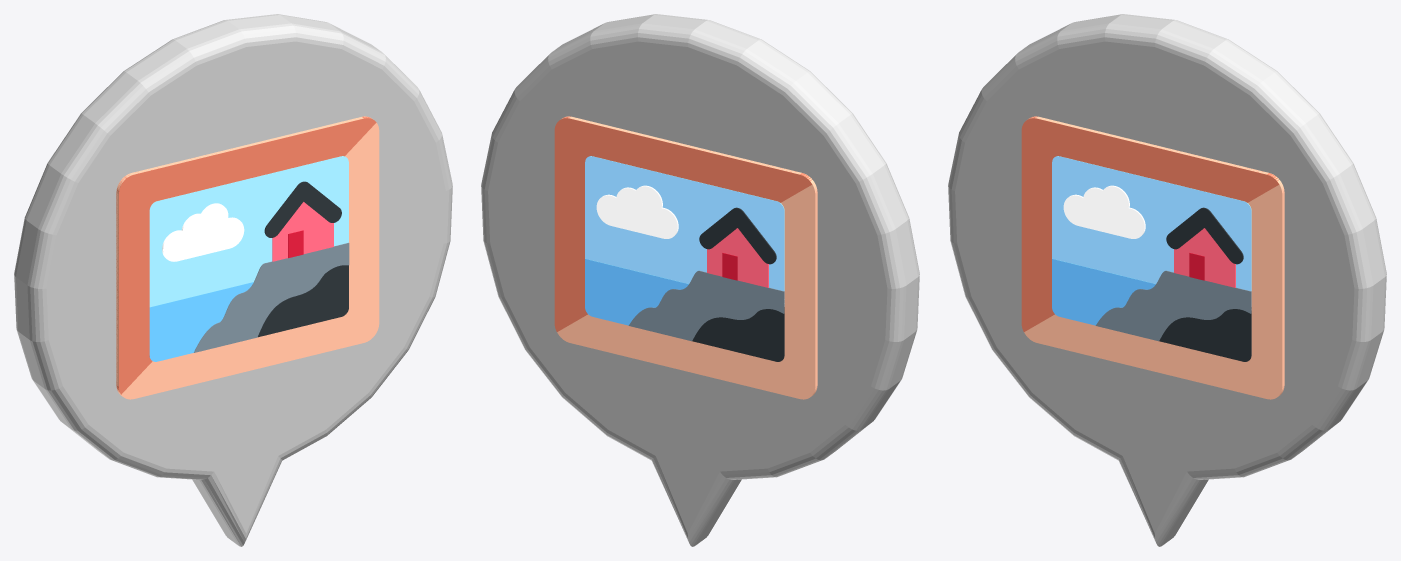
File: framed_picture.glb
3 renders of one model, left to right at view 1: azimuth 30°, elevation 25°; view 2: azimuth 150°, elevation 25°; view 3: azimuth 330°, elevation 25°, orthographic.
Visible parts, largest first — view 1: EmotionBubble; view 2: EmotionBubble; view 3: EmotionBubble.
Part boxes in pixels (x1,y1,x2,y2): EmotionBubble: (14,14,452,546); EmotionBubble: (481,14,919,546); EmotionBubble: (948,14,1386,546).
Size of the model in its own units: 5.29 by 6.16 by 0.724.
